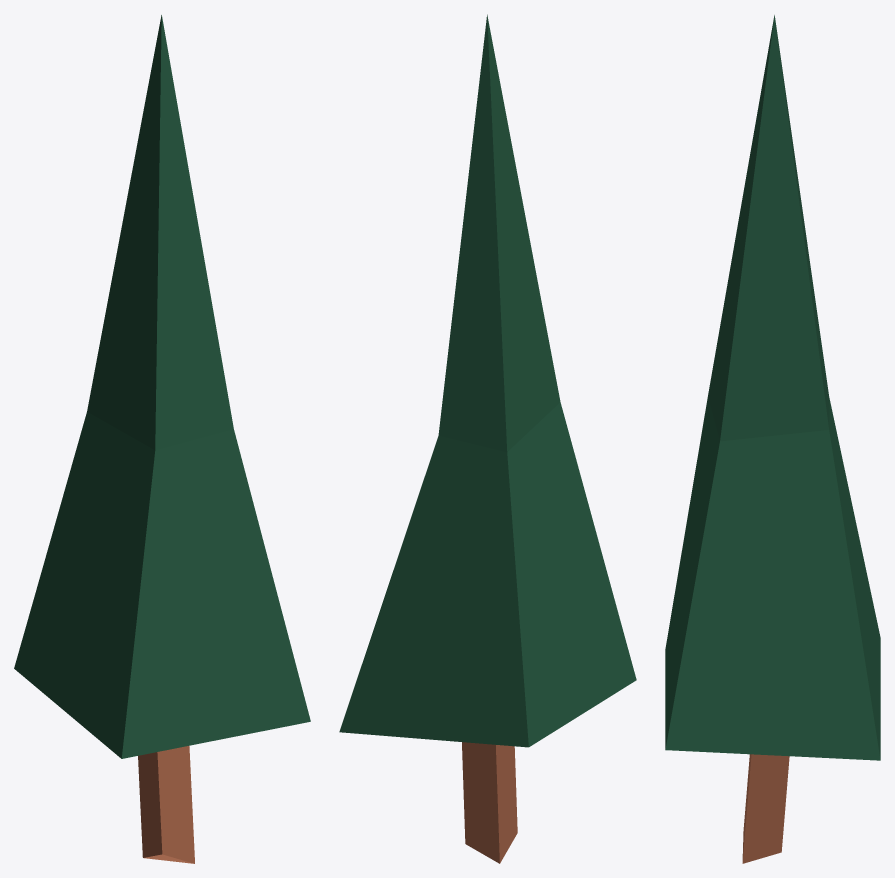
Rendered from Pine 2.fbx.
3 renders of one model, left to right at view 1: azimuth 30°, elevation 25°; view 2: azimuth 150°, elevation 25°; view 3: azimuth 270°, elevation 25°, orthographic.
Parts seen in each view (by area): view 1: Pine 2; view 2: Pine 2; view 3: Pine 2.
Boxes of the visible parts, left/top/right/bottom form: Pine 2: left=14, top=15, right=310, bottom=863; Pine 2: left=339, top=14, right=636, bottom=863; Pine 2: left=665, top=15, right=880, bottom=863.
Size of the model in its own units: 80 by 340 by 78.82.
